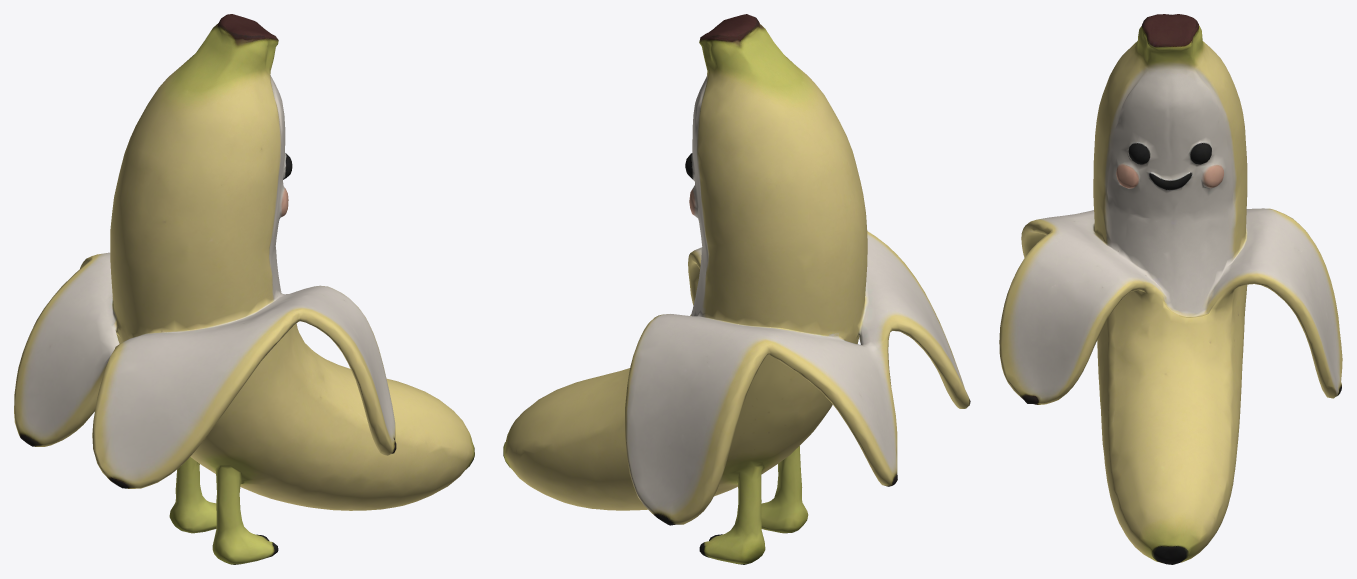
File: banana_texture.obj
3 views of the same model, side by side, from view 1: azimuth 30°, elevation 25°; view 2: azimuth 150°, elevation 25°; view 3: azimuth 270°, elevation 25° (orthographic). The views are drawn at different scales.
Visible parts, largest first — view 1: banana_texture; view 2: banana_texture; view 3: banana_texture.
Boxes of the visible parts, bbox=[...] form: banana_texture: bbox=[14, 14, 474, 564]; banana_texture: bbox=[503, 14, 970, 564]; banana_texture: bbox=[999, 14, 1342, 564].
Size of the model in its own units: 0.8487 by 1 by 0.6688.
1 material, 1 textured.
